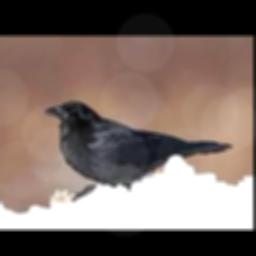Crow: (43, 101, 233, 204)
